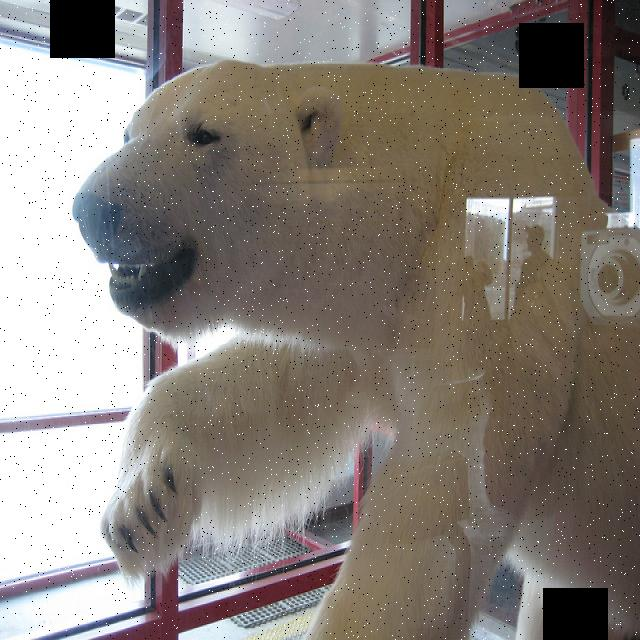Bear: (66, 39, 640, 640)
